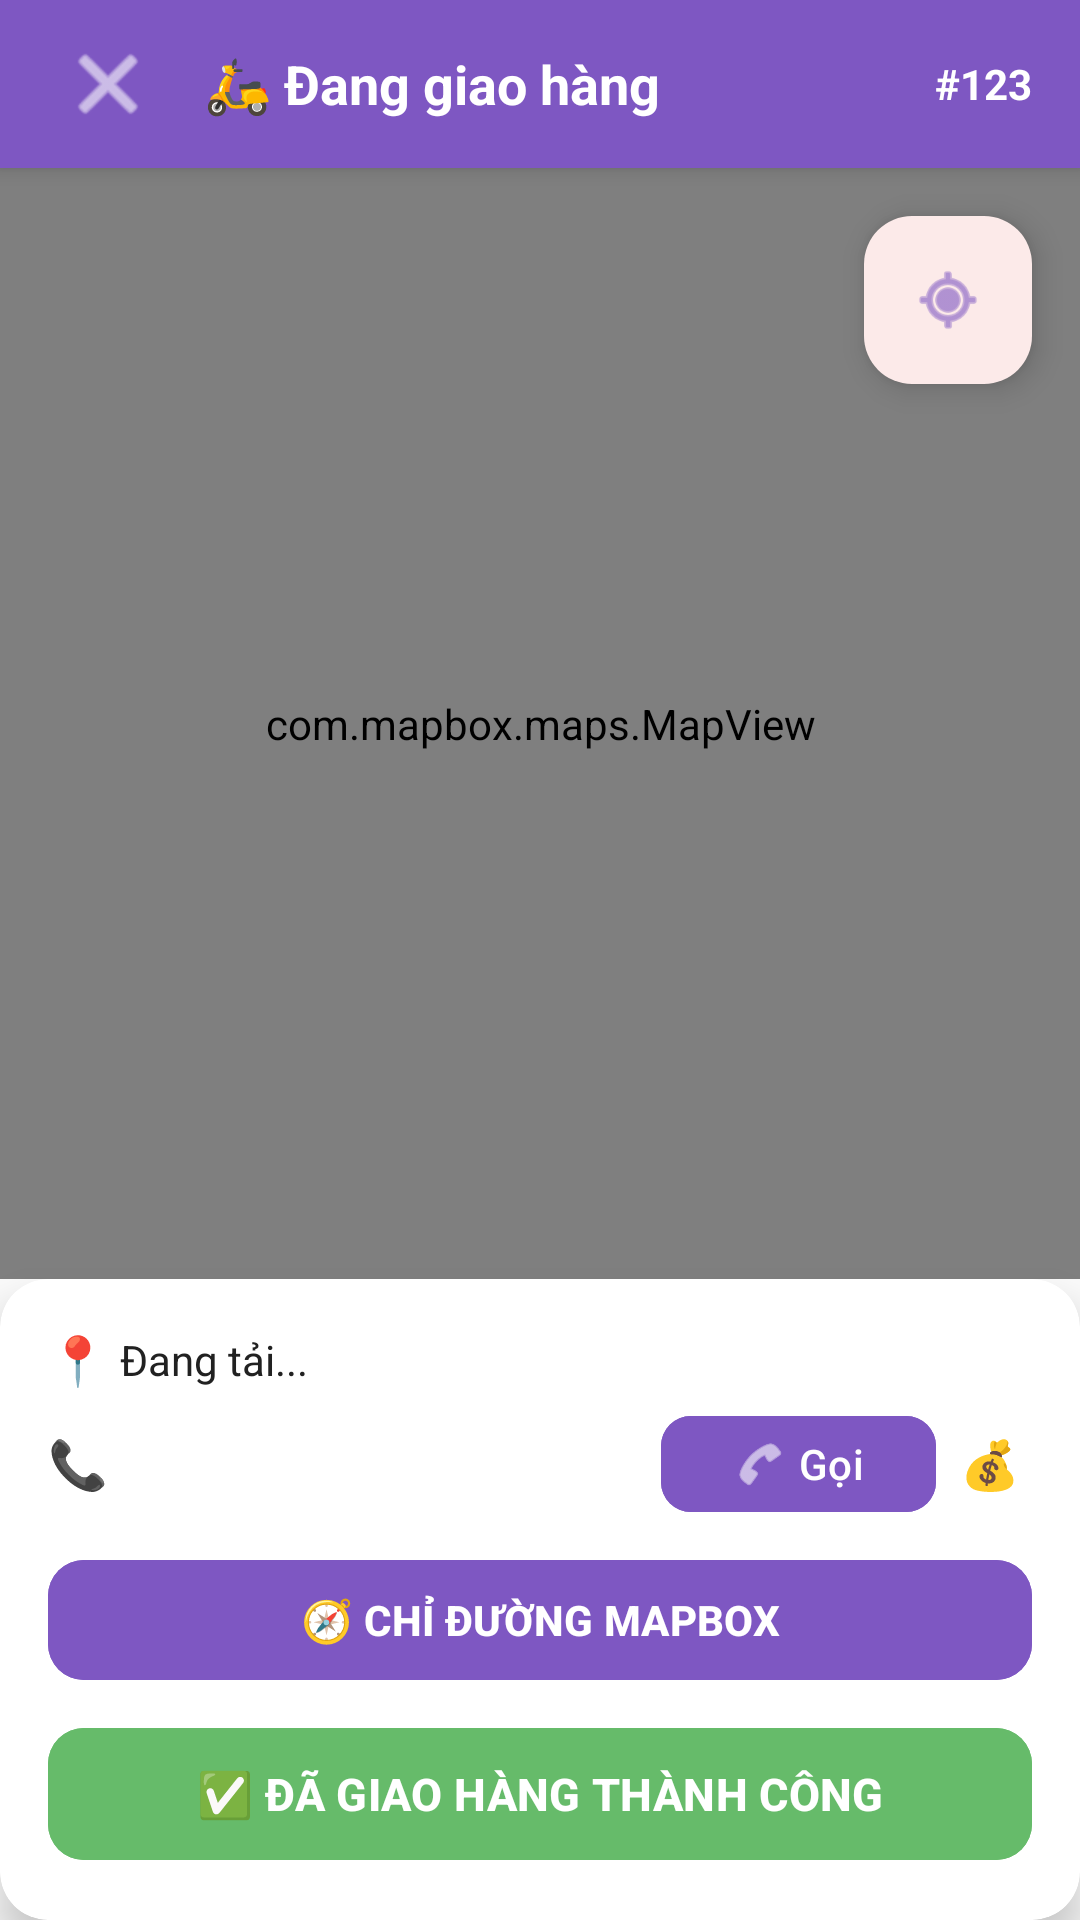

Icons on this 1080x1920 Android screen, each with the point to tap as point (x, y):
Quay lại: point (108, 84)
Vị trí của tôi: point (948, 300)
